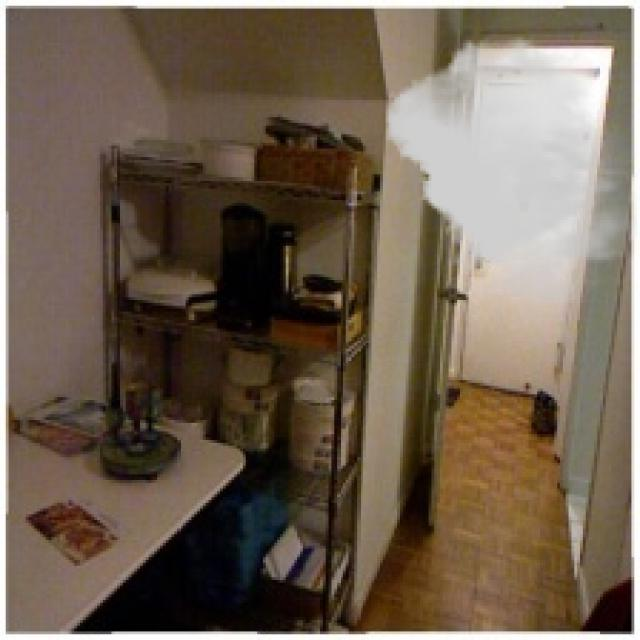smoke: (386, 37, 637, 303)
